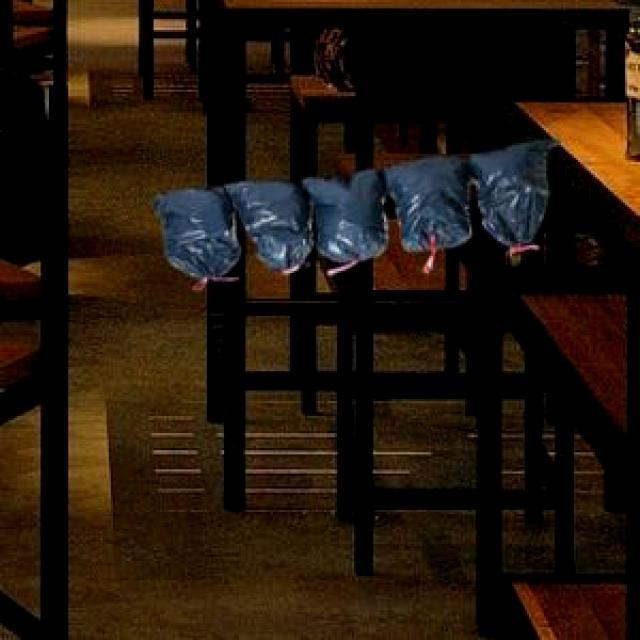Trashbag: (466, 141, 559, 251), (384, 154, 474, 258), (306, 164, 392, 265), (234, 174, 320, 270), (154, 192, 242, 279)
